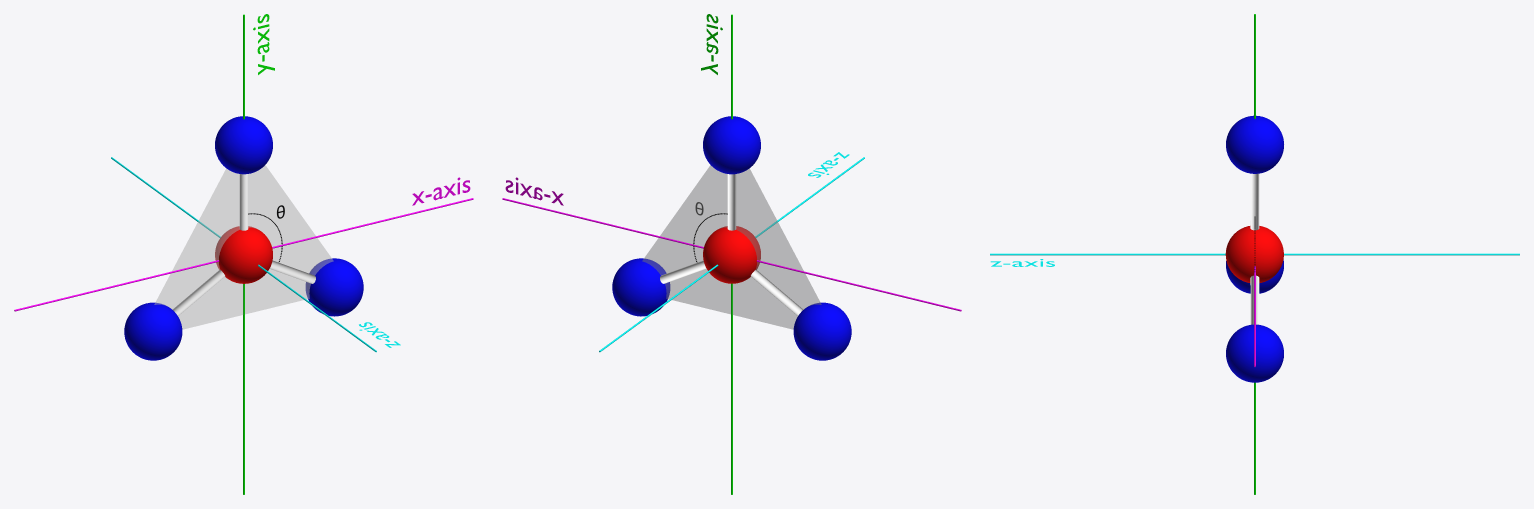
File: trigonal_planar_shape.glb
3 views of the same model, side by side, from view 1: azimuth 30°, elevation 25°; view 2: azimuth 150°, elevation 25°; view 3: azimuth 270°, elevation 25° (orthographic).
Visible parts, largest first — view 1: Circle, trigonal_planar, Cylinder.005, Cylinder.006, Cylinder.004; view 2: Circle, trigonal_planar, Cylinder.005, Cylinder.006, Cylinder.004; view 3: trigonal_planar, Cylinder.006.
Part boxes in pixels (left/top/right/bottom): Circle: left=154, top=165, right=333, bottom=329; trigonal_planar: left=124, top=116, right=363, bottom=360; Cylinder.005: left=14, top=198, right=473, bottom=311; Cylinder.006: left=111, top=157, right=376, bottom=352; Cylinder.004: left=243, top=14, right=244, bottom=494; Circle: left=642, top=165, right=821, bottom=329; trigonal_planar: left=612, top=116, right=851, bottom=360; Cylinder.005: left=502, top=198, right=961, bottom=311; Cylinder.006: left=599, top=157, right=864, bottom=352; Cylinder.004: left=731, top=14, right=732, bottom=494; trigonal_planar: left=1225, top=115, right=1283, bottom=382; Cylinder.006: left=990, top=253, right=1519, bottom=255.
Bounding box in the file's own units: 6 × 6 × 6.
Materials: 15 (1 with a texture image).
